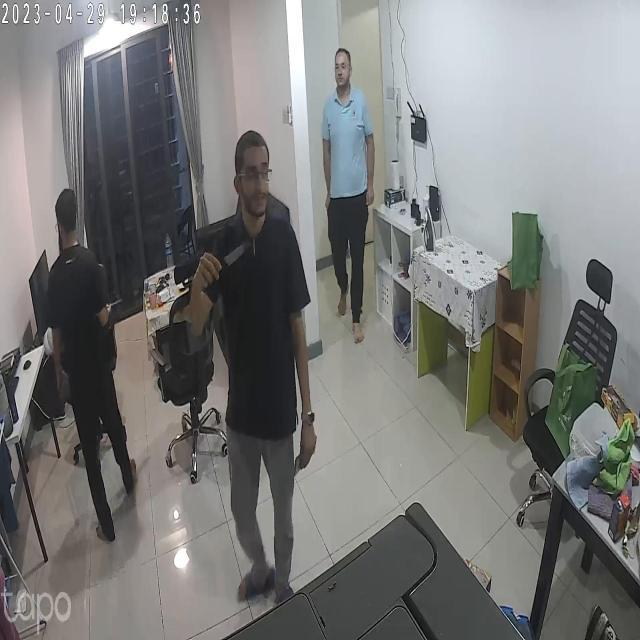Knife: (199, 240, 260, 278)
